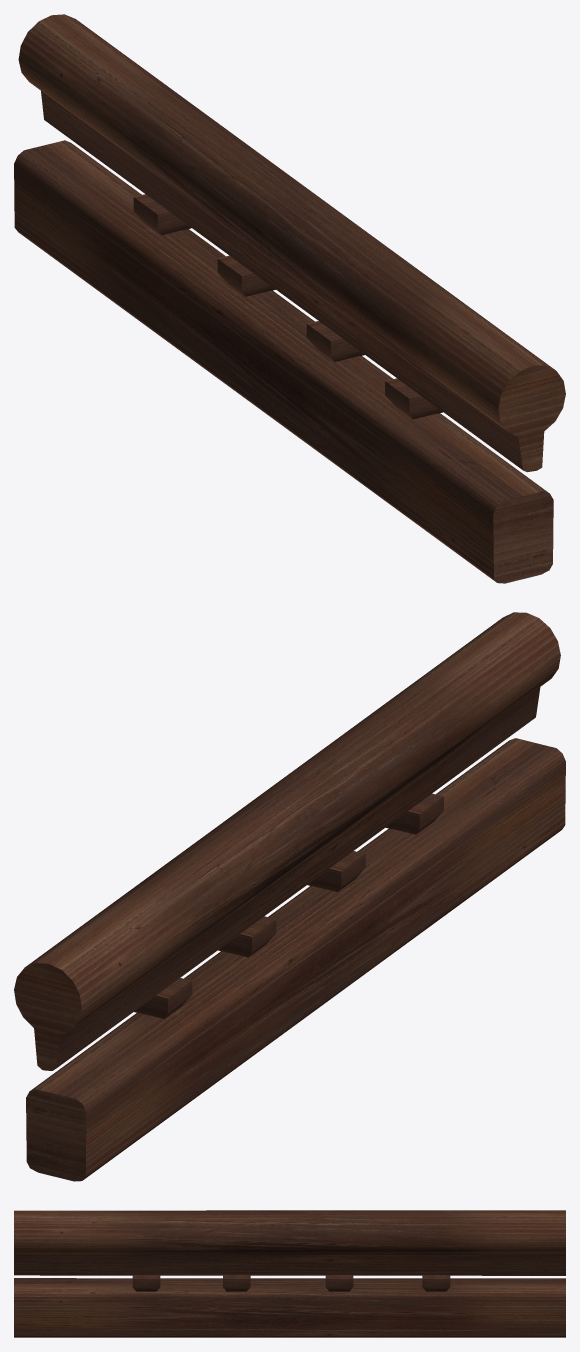
Rendered from SM_R_Dancheong_27.fbx.
3 views of the same model, one above another, from view 1: azimuth 30°, elevation 25°; view 2: azimuth 150°, elevation 25°; view 3: azimuth 270°, elevation 25° (orthographic). The views are drawn at different scales.
Parts seen in each view (by area): view 1: SM_R_Dancheong_27; view 2: SM_R_Dancheong_27; view 3: SM_R_Dancheong_27.
Boxes of the visible parts, x1,y1,x2,y2 form: SM_R_Dancheong_27: [14, 14, 565, 583]; SM_R_Dancheong_27: [14, 612, 565, 1181]; SM_R_Dancheong_27: [14, 1210, 565, 1337].
Bounding box in the file's own units: 32.38 × 369 × 89.85.
Materials: 1 (1 with a texture image).
